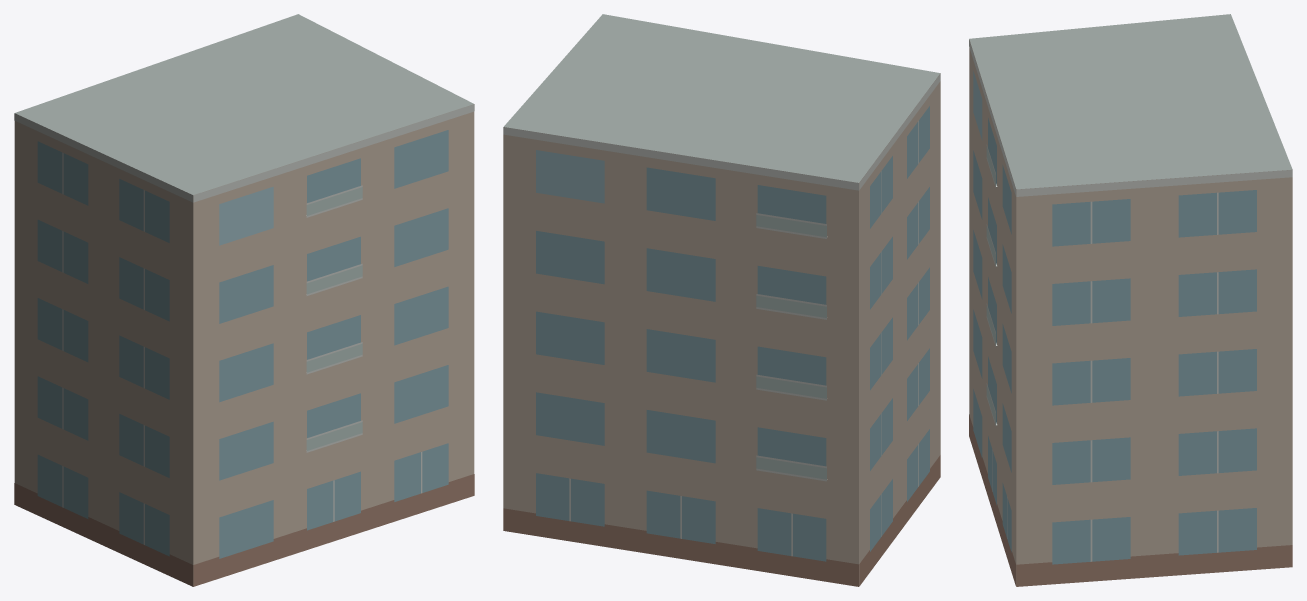
Rendered from survey-upis-33021883.glb.
3 renders of one model, left to right at view 1: azimuth 30°, elevation 25°; view 2: azimuth 150°, elevation 25°; view 3: azimuth 270°, elevation 25°, orthographic. The views are drawn at different scales.
Parts seen in each view (by area): view 1: survey-upis-33021883.tmp; view 2: survey-upis-33021883.tmp; view 3: survey-upis-33021883.tmp.
Boxes of the visible parts, <box> form: survey-upis-33021883.tmp: <box>14,14,474,586</box>; survey-upis-33021883.tmp: <box>503,14,940,586</box>; survey-upis-33021883.tmp: <box>969,14,1292,586</box>.
Bounding box in the file's own units: 12.13 × 12.8 × 9.45.
